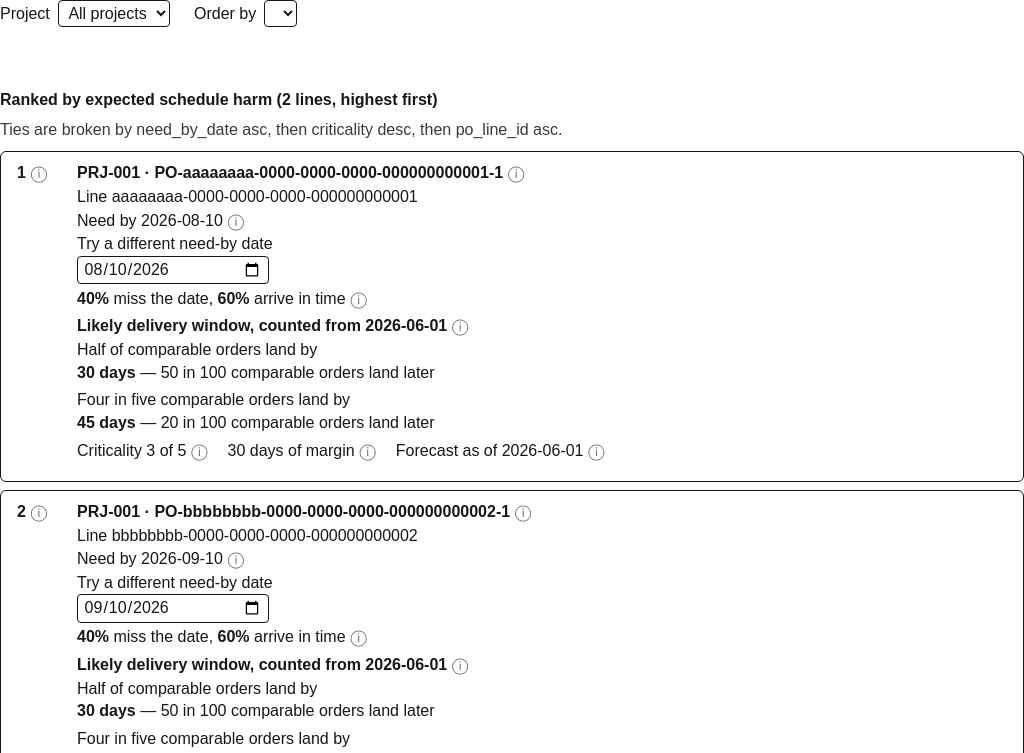
it: adjusting a need-by date › says so rather than leaving a stale order on screen when the request fails
This screenshot has width=1024, height=753.
Type "2026-08-05" into the date field labelled "Try a different need-by date" below "2026-08-10". click: [173, 270]
box: [77,256,269,284]
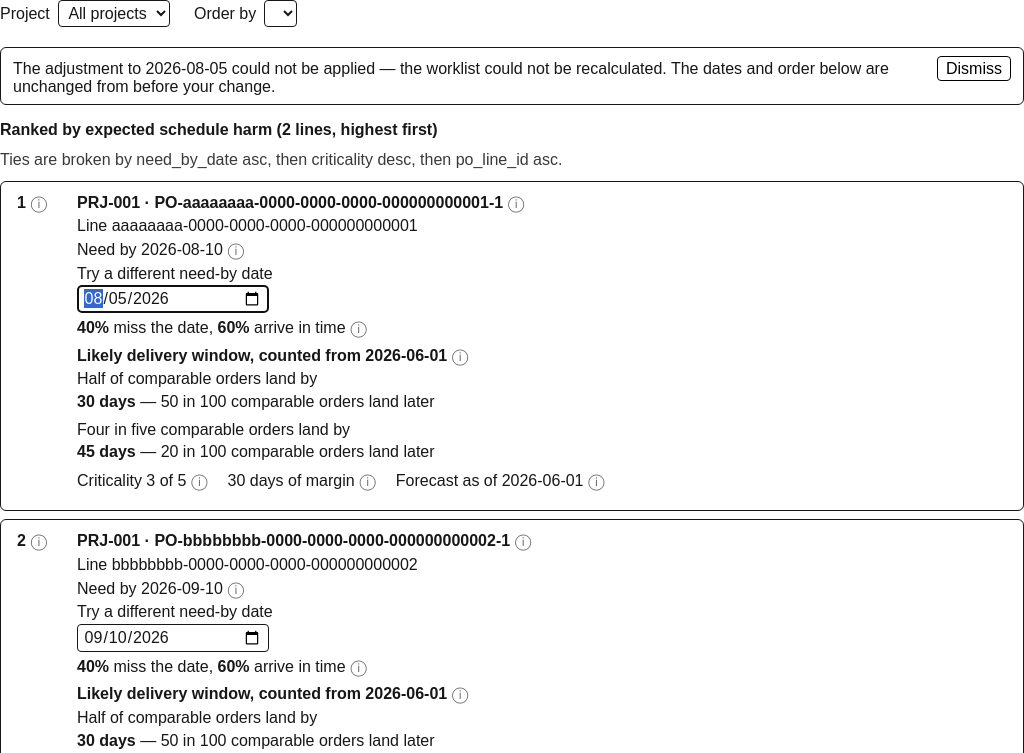
Expected: the message named "Adjustment status" shows "could not be applied", [13,60,889,95]
